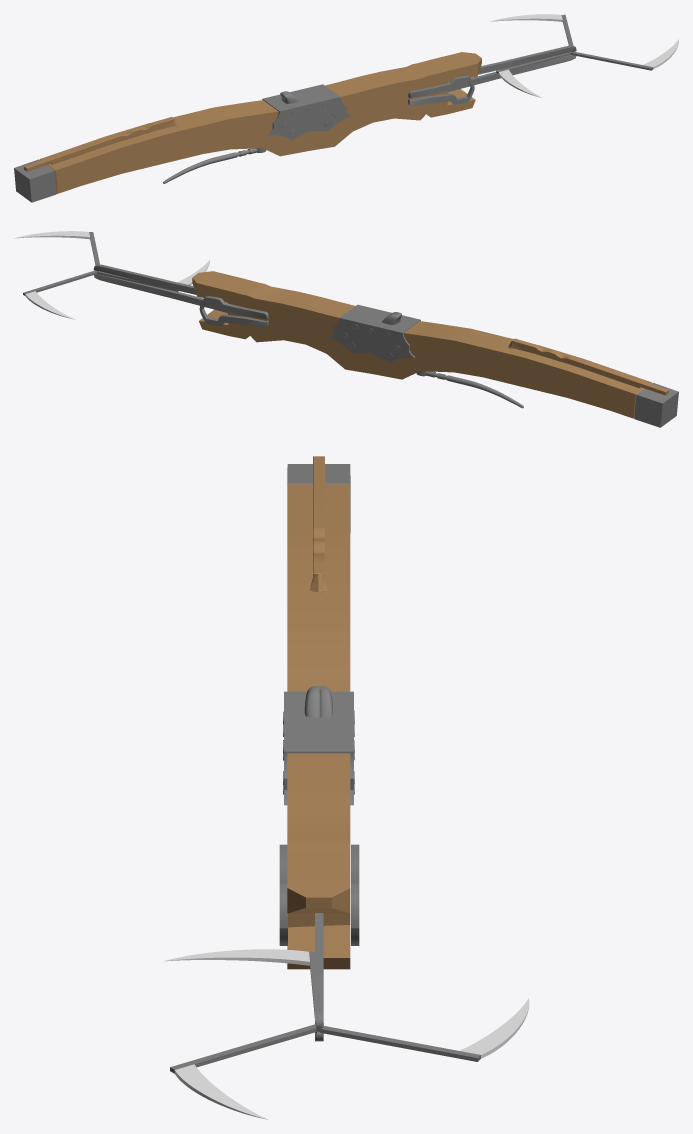
File: Lanza Hoces.fbx
3 views of the same model, one above another, from view 1: azimuth 30°, elevation 25°; view 2: azimuth 150°, elevation 25°; view 3: azimuth 270°, elevation 25° (orthographic). The views are drawn at different scales.
Visible parts, largest first — view 1: cuerpo, placa metalica, Cube.001, accesorio culata, Cube.003, Cube.005, Cube.004, gatillo, Cube.006; view 2: cuerpo, placa metalica, Cube.001, accesorio culata, Cube.002, Cube.006, gatillo, Cube.005, Cube.004; view 3: cuerpo, placa metalica, Cube.006, Cube.005, Cube.004, accesorio culata, Cube.001.
Boxes of the visible parts, x1,y1,x2,y2 form: cuerpo: (14,52,481,202); placa metalica: (262,84,351,139); Cube.001: (448,45,576,91); accesorio culata: (24,117,177,171); Cube.003: (408,75,474,106); Cube.005: (571,39,678,70); Cube.004: (496,52,570,97); gatillo: (163,148,266,183); Cube.006: (490,14,574,52); cuerpo: (192,271,678,427); placa metalica: (328,304,420,362); Cube.001: (93,264,227,312); accesorio culata: (508,338,668,395); Cube.002: (199,295,268,327); Cube.006: (23,270,97,319); gatillo: (416,371,523,408); Cube.005: (14,231,99,264); Cube.004: (96,260,209,291); cuerpo: (287,464,350,969); placa metalica: (284,691,353,805); Cube.006: (314,998,529,1061); Cube.005: (170,1024,316,1119); Cube.004: (164,949,323,1025); accesorio culata: (310,456,327,592); Cube.001: (315,913,323,1041).
Bounding box in the file's own units: 565 × 53.7 × 139.
